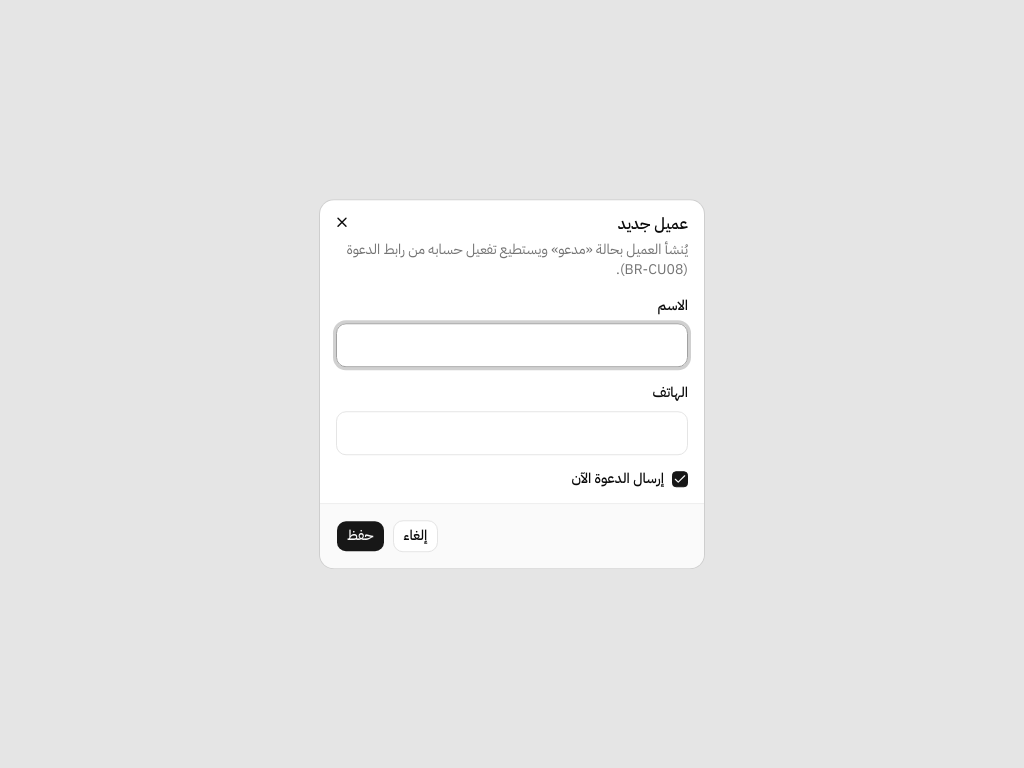
CreateCustomerDialog › skips the invitation when unticked and shows phone_taken
In the field labelled "الاسم": (512, 346) 336,324 -> 688,368, type "مكتبة الأمل"
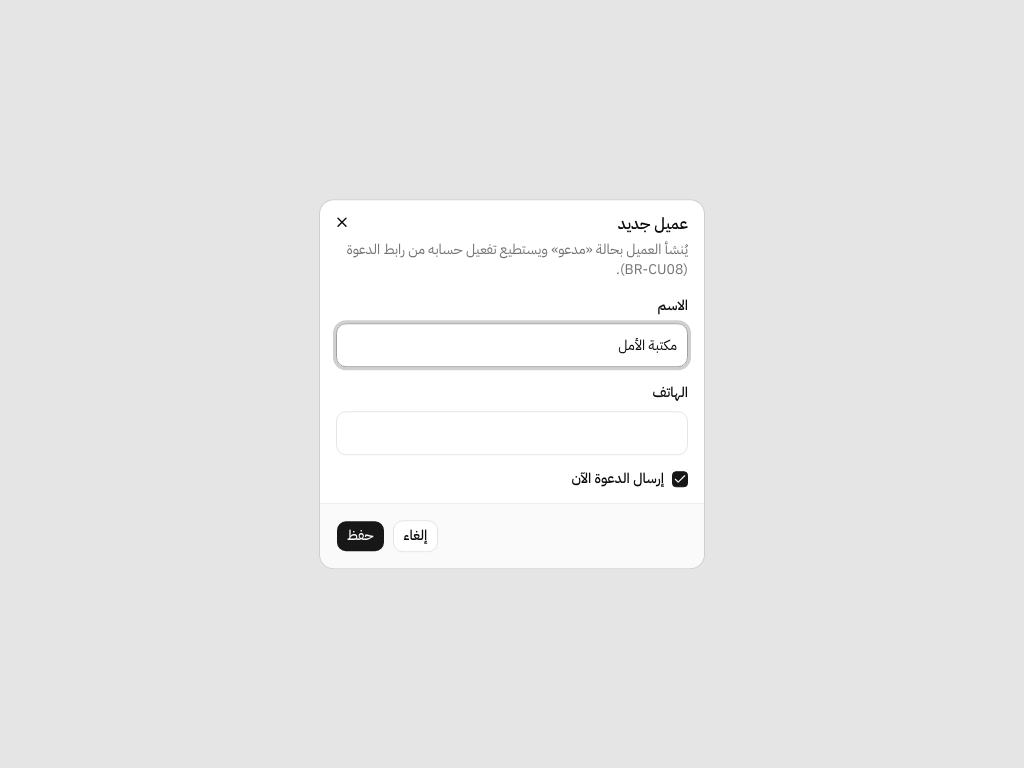
In the field labelled "الهاتف": (512, 433) 336,411 -> 688,455, type "01012345678"
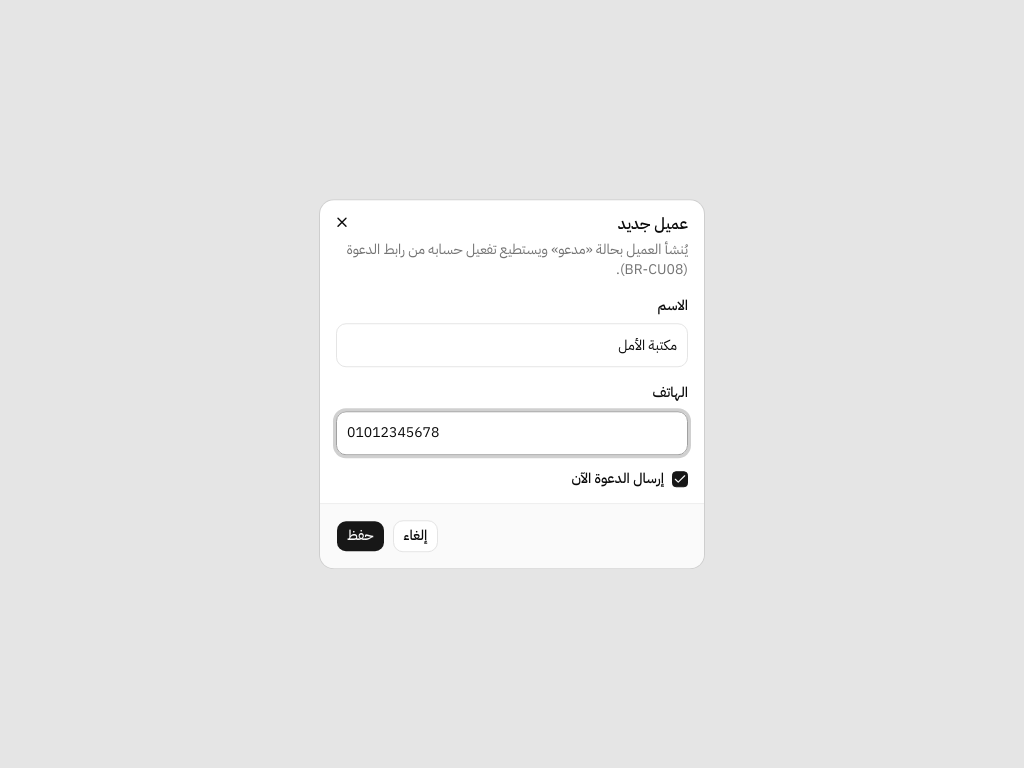
Click the checkbox named "إرسال الدعوة الآن": (680, 479) 672,471 -> 688,487
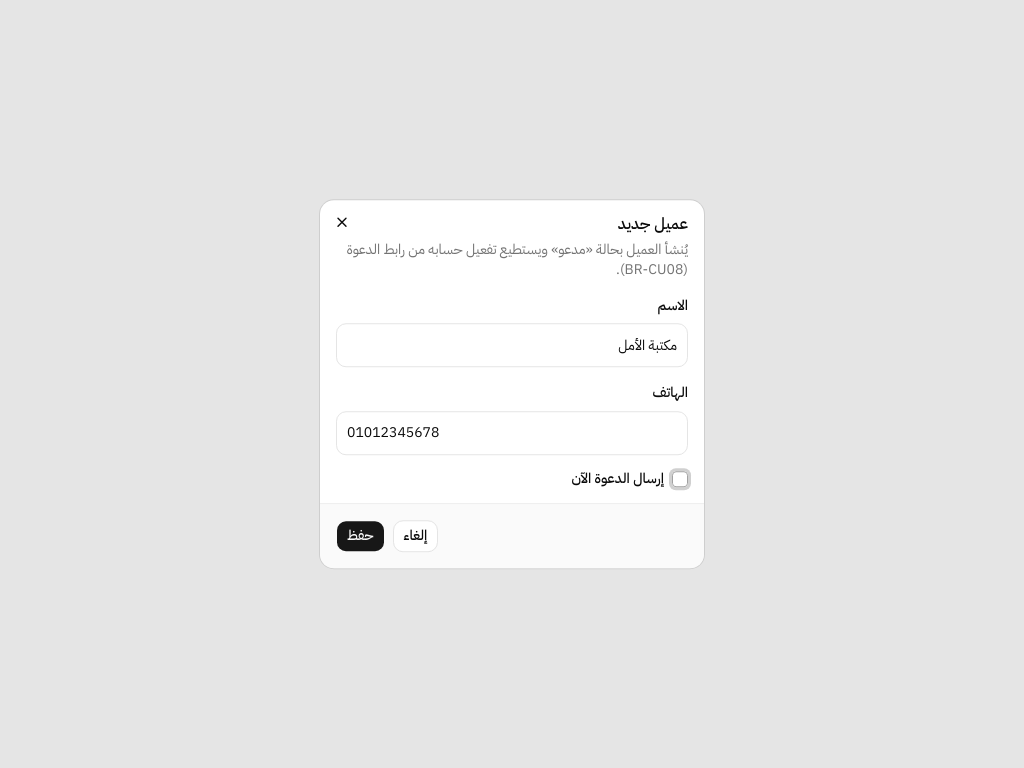
Click the button "حفظ": (360, 536) 336,520 -> 385,552
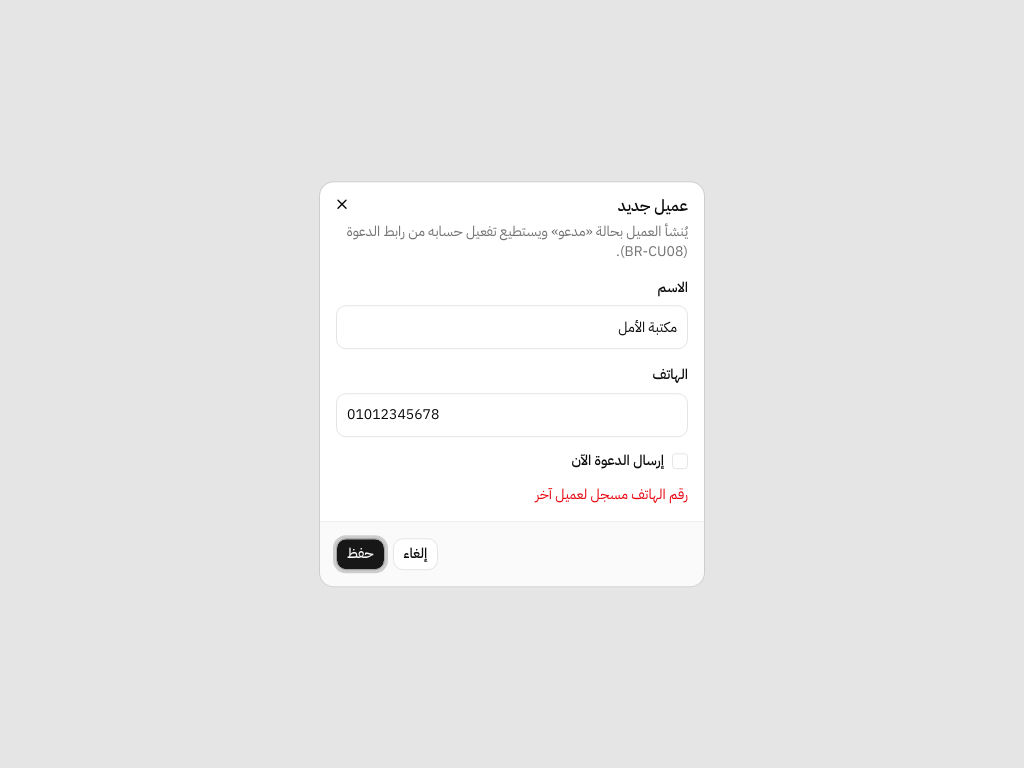
Expected: the message reads "رقم الهاتف مسجل لعميل آخر", 536,484 -> 688,505
